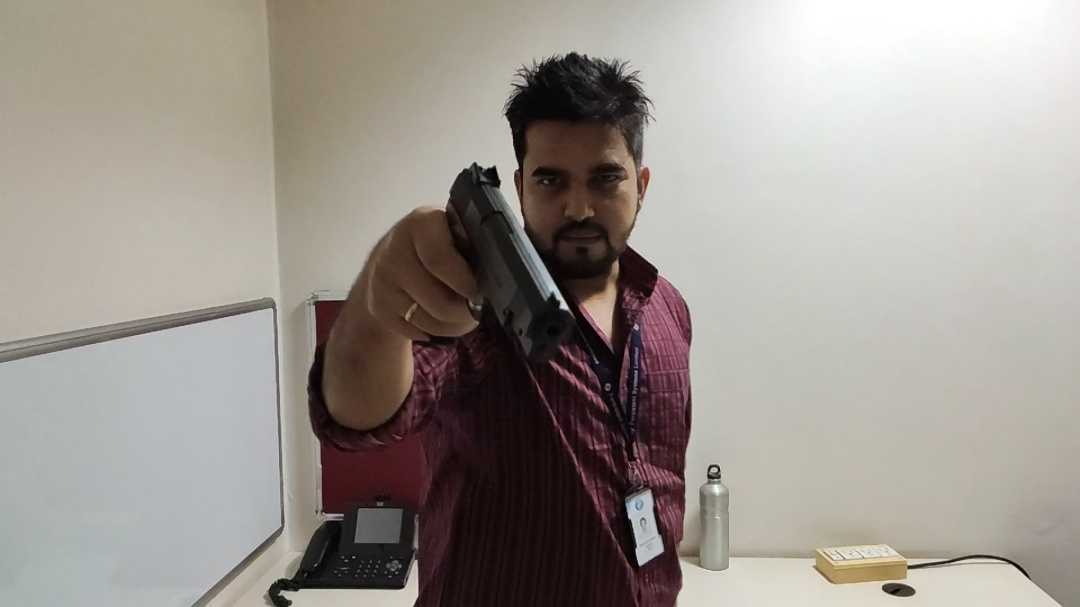gun: (403, 157, 582, 369)
